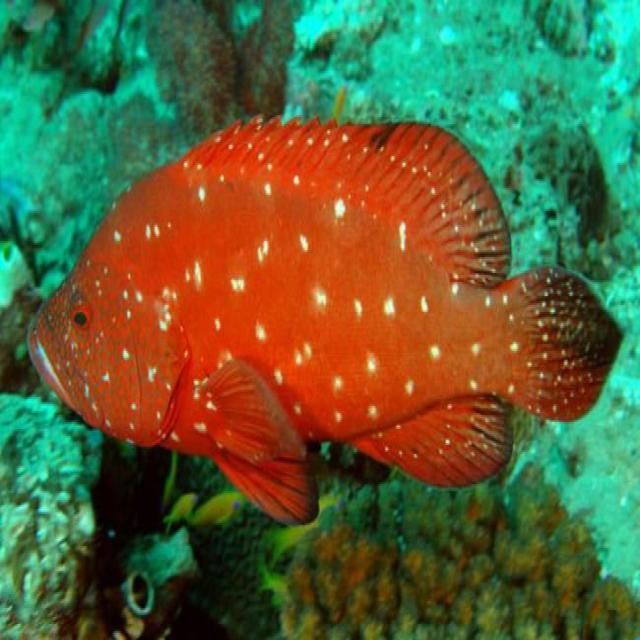ikan: (26, 106, 624, 528)
